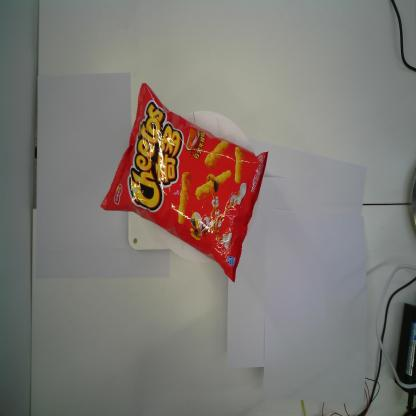Puffed Food: (99, 82, 269, 290)
